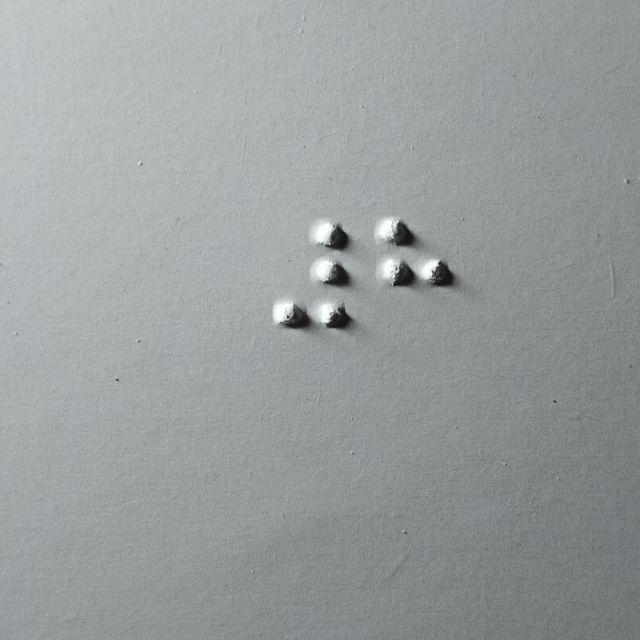8: (377, 215, 456, 331)
number: (273, 218, 353, 332)
